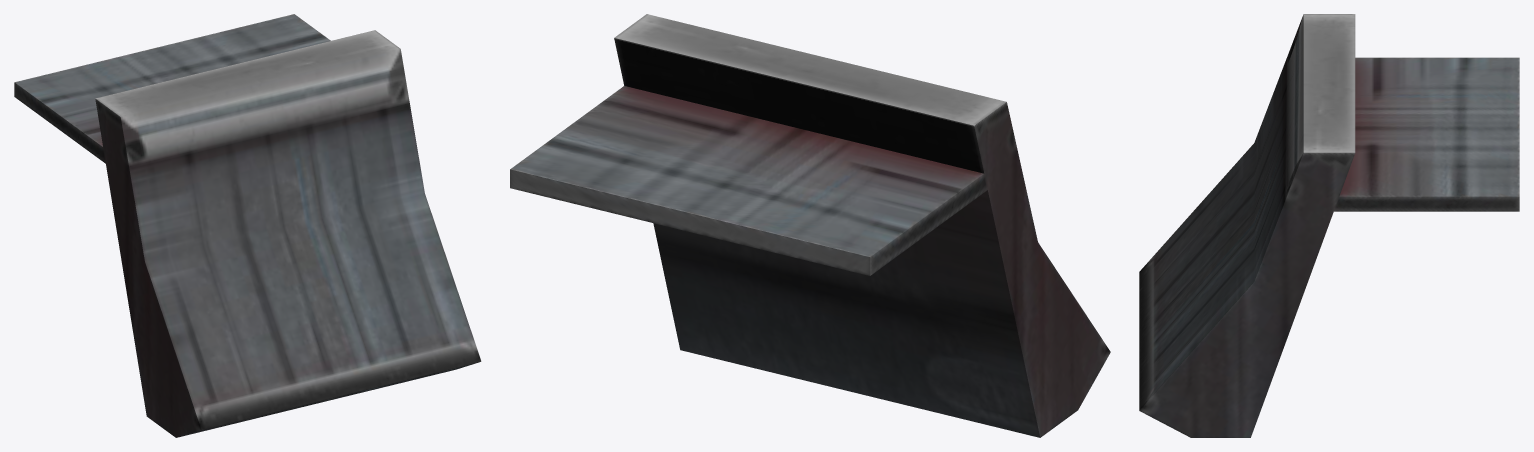
Rendered from c0a2c77e-dac0-4cad-9fe2-0a32fdac5e87.glb.
The picture shows the model from 3 angles, left to right: view 1: azimuth 30°, elevation 25°; view 2: azimuth 150°, elevation 25°; view 3: azimuth 270°, elevation 25°; orthographic projection. The views are drawn at different scales.
Visible parts, largest first — view 1: Roof base Module; view 2: Roof base Module; view 3: Roof base Module.
Boxes of the visible parts, x1,y1,x2,y2 form: Roof base Module: (14, 14, 481, 437); Roof base Module: (510, 14, 1110, 437); Roof base Module: (1139, 14, 1519, 437).
Size of what is drawn, in the model's own units: 2.25 by 2.15 by 2.6.
1 material, 1 textured.
